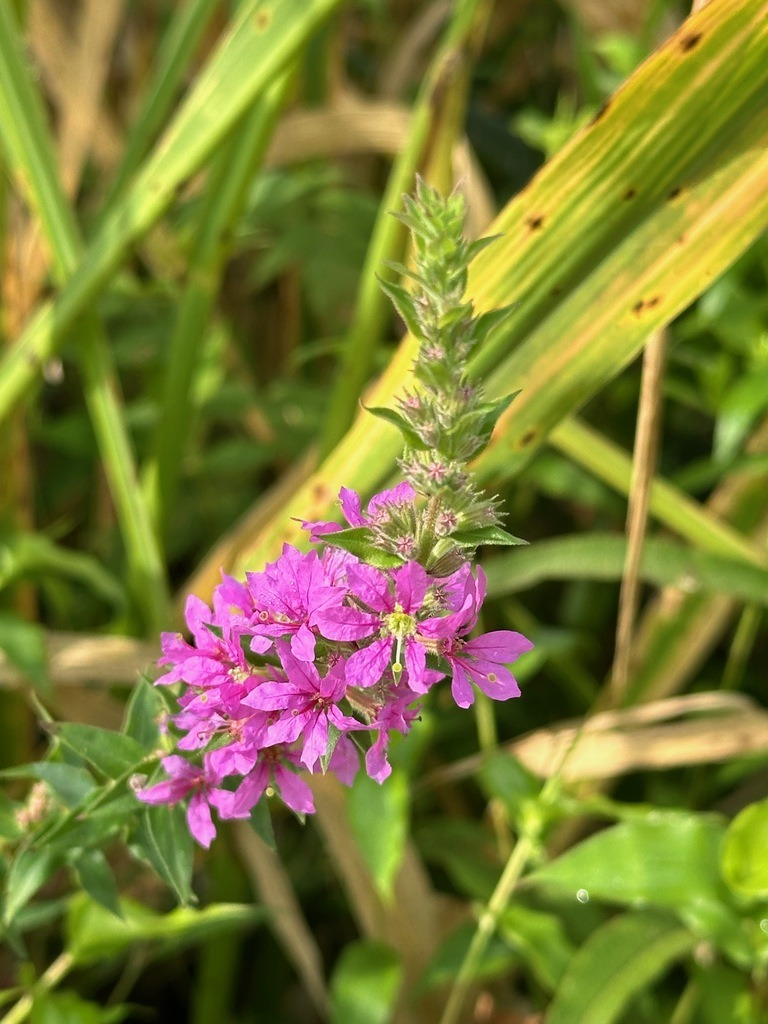purple loosestrife: (129, 172, 538, 850)
